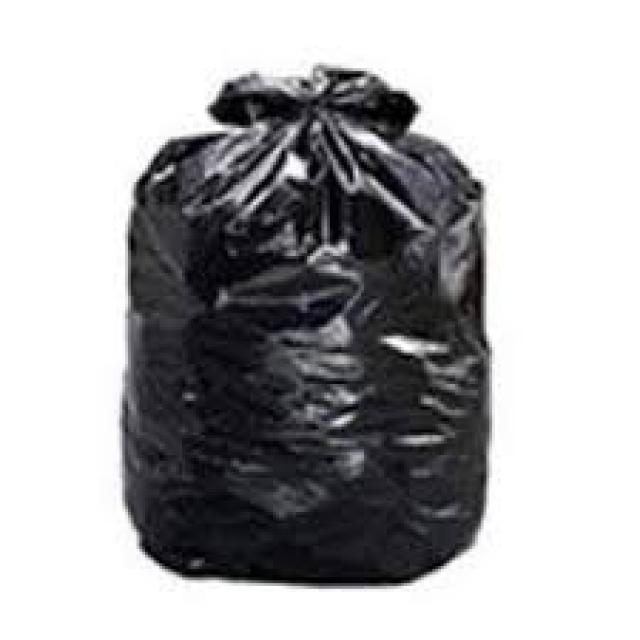plastic_bag: (126, 72, 482, 584)
